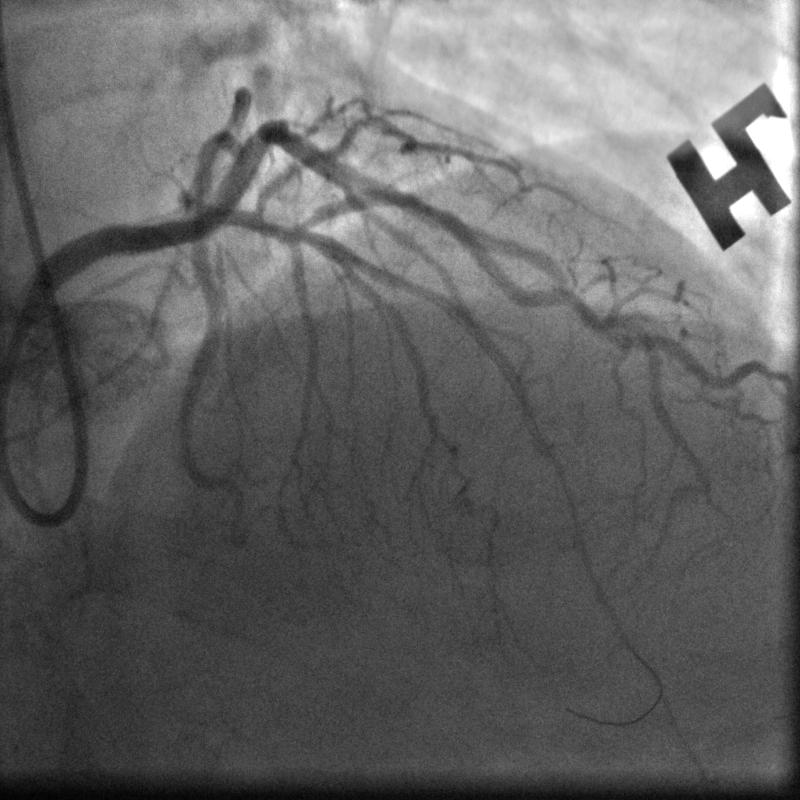Stenosis: (411, 190, 450, 220)
